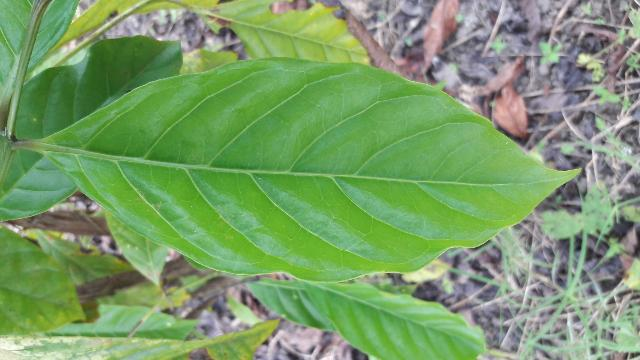healthy: (53, 64, 569, 279)
